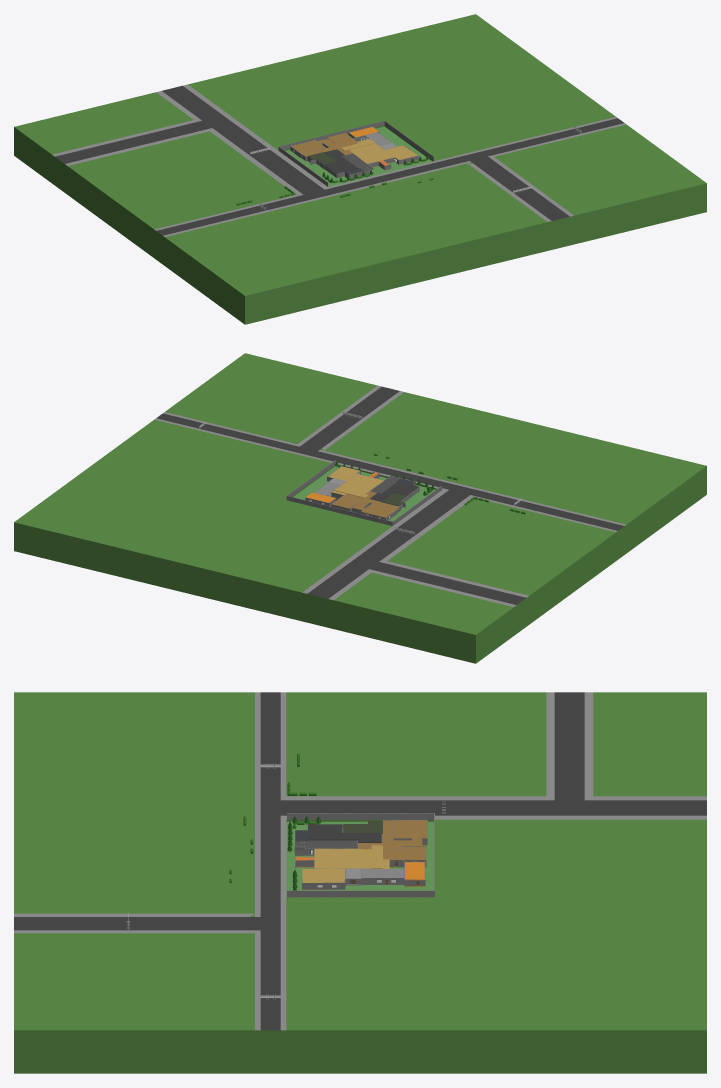
The model's file is Maps_Level_5.fbx.
3 renders of one model, top to bottom at view 1: azimuth 30°, elevation 25°; view 2: azimuth 150°, elevation 25°; view 3: azimuth 270°, elevation 25°, orthographic. The views are drawn at different scales.
Parts seen in each view (by area): view 1: Ground, Floor.001, grass-Florr; view 2: Ground, Floor.001, grass-Florr; view 3: Ground, Floor.001, grass-Florr.
Boxes of the visible parts, bbox=[...] form: Ground: bbox=[14, 14, 706, 324]; Floor.001: bbox=[291, 127, 417, 174]; grass-Florr: bbox=[285, 126, 432, 186]; Ground: bbox=[14, 353, 706, 663]; Floor.001: bbox=[306, 466, 418, 517]; grass-Florr: bbox=[293, 466, 435, 521]; Ground: bbox=[14, 692, 706, 1073]; Floor.001: bbox=[295, 820, 427, 882]; grass-Florr: bbox=[286, 821, 433, 897].
Bounding box in the file's own units: 33710 × 2412 × 29210.
